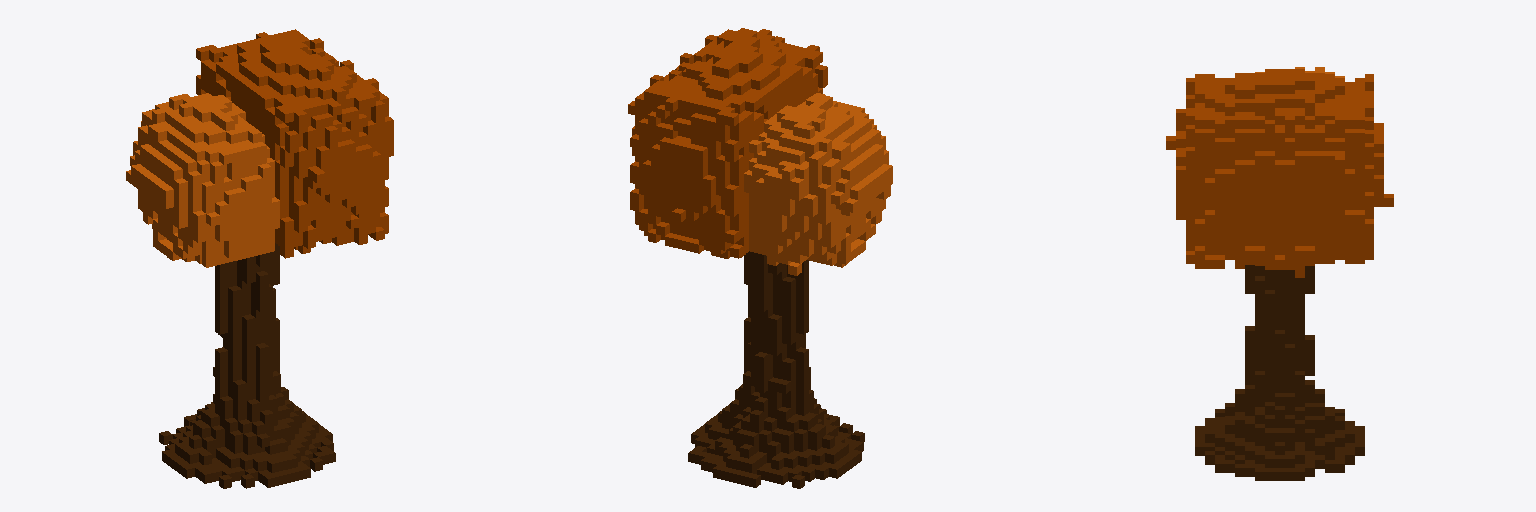
3 views of the same model, side by side, from view 1: azimuth 30°, elevation 25°; view 2: azimuth 150°, elevation 25°; view 3: azimuth 270°, elevation 25° (orthographic).
Parts seen in each view (by area): view 1: object 1; view 2: object 1; view 3: object 1.
Part boxes in pixels (x1,y1,x2,y2): object 1: (126,29,393,488); object 1: (628,28,892,488); object 1: (1166,67,1393,480).
Size of the model in its own units: 2.5 by 4.3 by 2.3.
1 materials, 1 textured.